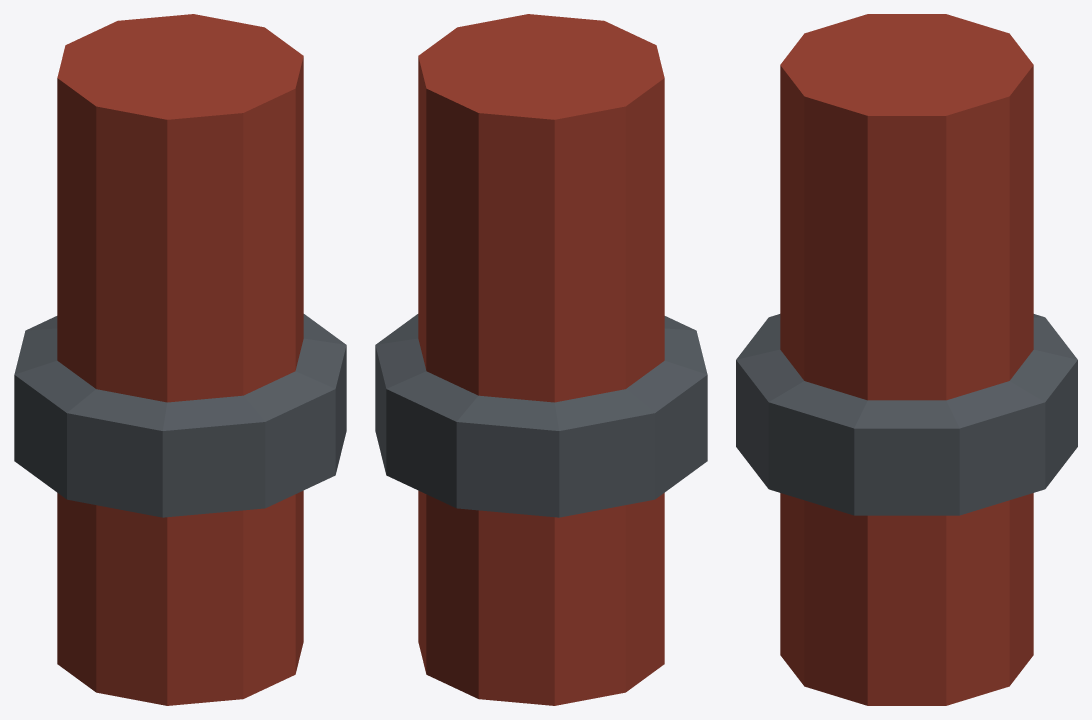
The model's file is Dropship_01_Piping_01_Red.fbx.
3 renders of one model, left to right at view 1: azimuth 30°, elevation 25°; view 2: azimuth 150°, elevation 25°; view 3: azimuth 270°, elevation 25°, orthographic.
Visible parts, largest first — view 1: Dropship_01_Piping_01_Red; view 2: Dropship_01_Piping_01_Red; view 3: Dropship_01_Piping_01_Red.
Boxes of the visible parts, x1=… form: Dropship_01_Piping_01_Red: x1=14, y1=14, x2=346, y2=705; Dropship_01_Piping_01_Red: x1=375, y1=14, x2=707, y2=705; Dropship_01_Piping_01_Red: x1=736, y1=14, x2=1077, y2=705.
Bounding box in the file's own units: 70.5 × 141 × 74.13.
Materials: 1 (1 with a texture image).
